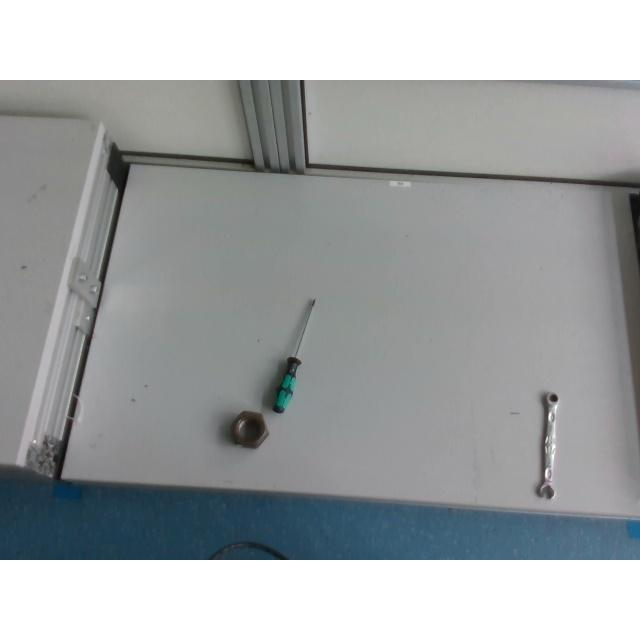M30: (230, 410, 270, 448)
Screwdriver: (272, 297, 314, 411)
Wrench: (536, 392, 560, 500)
